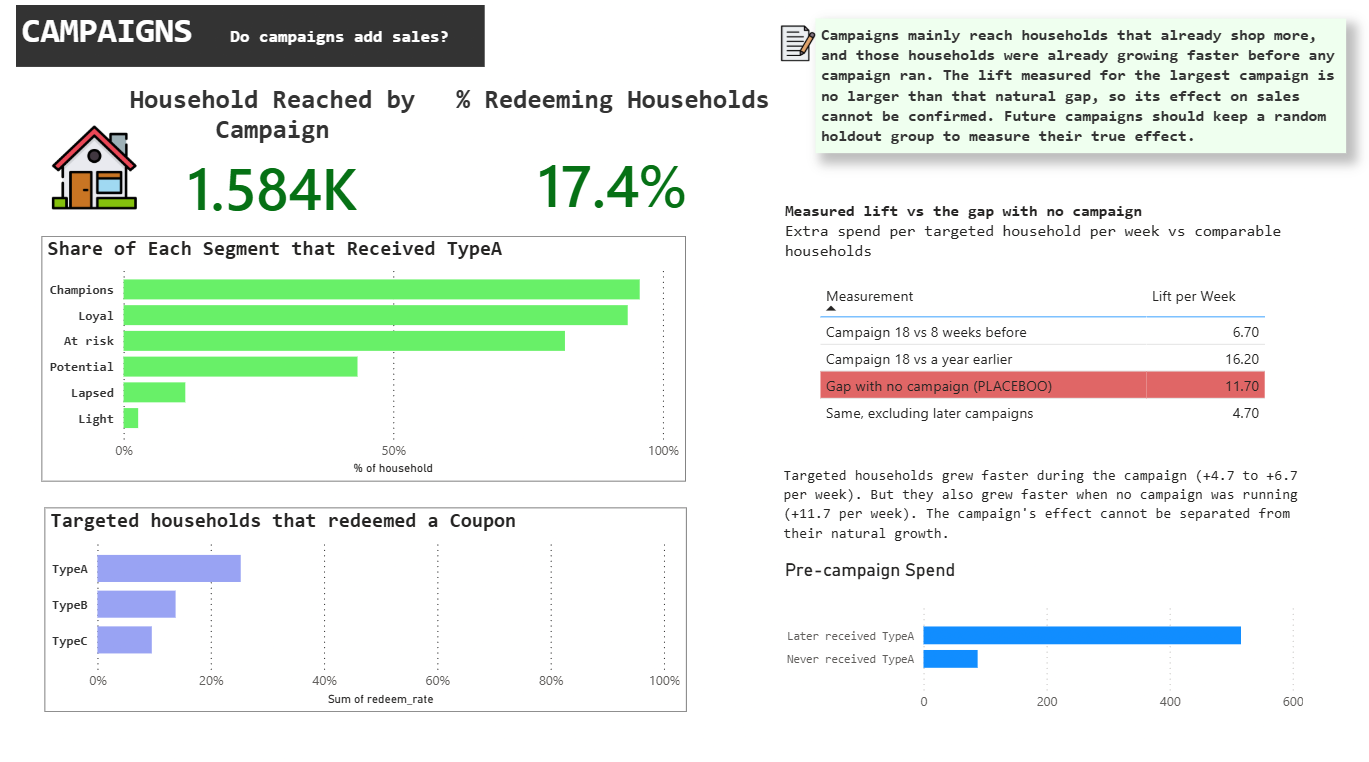

What the dashboard file says about the page in this screenshot:
{"tool":"powerbi","page":{"name":"Campaigns","canvas":[1280,720],"ordinal":2},"visuals":[{"type":"cardVisual","title":"Household Reached by Campaign","fields":{"Data":["_Measures.Households Reached"]},"box":[107.2,83.2,299.8,134.3],"z":0},{"type":"textbox","box":[19.7,11.5,434.1,57.3],"z":1000},{"type":"image","box":[17.1,122.5,150.7,78.6],"z":2000},{"type":"cardVisual","title":"% Redeeming Households","fields":{"Data":["_Measures.% Ever Redeemed"]},"box":[421.7,83.2,299.8,155.6],"z":3000},{"type":"clusteredBarChart","title":"Share of Each Segment that Received TypeA","fields":{"Category":["public dash_households.segment"],"Y":["_Measures.% Got TypeA"]},"box":[43.6,225.5,596.4,227.3],"z":4000},{"type":"tableEx","title":"Share of Redeemd Coupons","fields":{"Values":["Life_check.estimate","Sum(Life_check.lift_per_week)"]},"box":[758.5,262.1,442.3,150.7],"z":5000},{"type":"clusteredBarChart","title":"Targeted households that redeemed a Coupon","fields":{"Category":["Campaign_response.type"],"Y":["Sum(Campaign_response.redeem_rate)"]},"box":[45.5,476.4,594.5,189.1],"z":6000},{"type":"textbox","box":[760.1,22.9,491.5,124.5],"z":7000},{"type":"textbox","box":[725.7,186.8,542.3,72.1],"z":8000},{"type":"textbox","box":[725.5,430.9,509.1,89.1],"z":9000},{"type":"image","box":[725.7,22.9,34.4,45.9],"z":10000},{"type":"barChart","title":"Pre-campaign Spend","fields":{"Category":["pre_campaign_spend.group"],"Y":["Sum(pre_campaign_spend.median_spend)"]},"box":[725.7,524.2,489.8,150.7],"z":11000}]}

Visuals, with their boxes in screenshot pixels (x1, y1, x2, y2), scaled from the page's 1280x720 canvas onto the 1369x762 screenshot:
"Household Reached by Campaign" cardVisual: <box>115,88,435,230</box>
textbox: <box>21,12,485,73</box>
image: <box>18,130,179,213</box>
"% Redeeming Households" cardVisual: <box>451,88,772,253</box>
"Share of Each Segment that Received TypeA" clusteredBarChart: <box>47,239,684,479</box>
"Share of Redeemd Coupons" tableEx: <box>811,277,1284,437</box>
"Targeted households that redeemed a Coupon" clusteredBarChart: <box>49,504,684,704</box>
textbox: <box>813,24,1339,156</box>
textbox: <box>776,198,1356,274</box>
textbox: <box>776,456,1320,550</box>
image: <box>776,24,813,73</box>
"Pre-campaign Spend" barChart: <box>776,555,1300,714</box>
